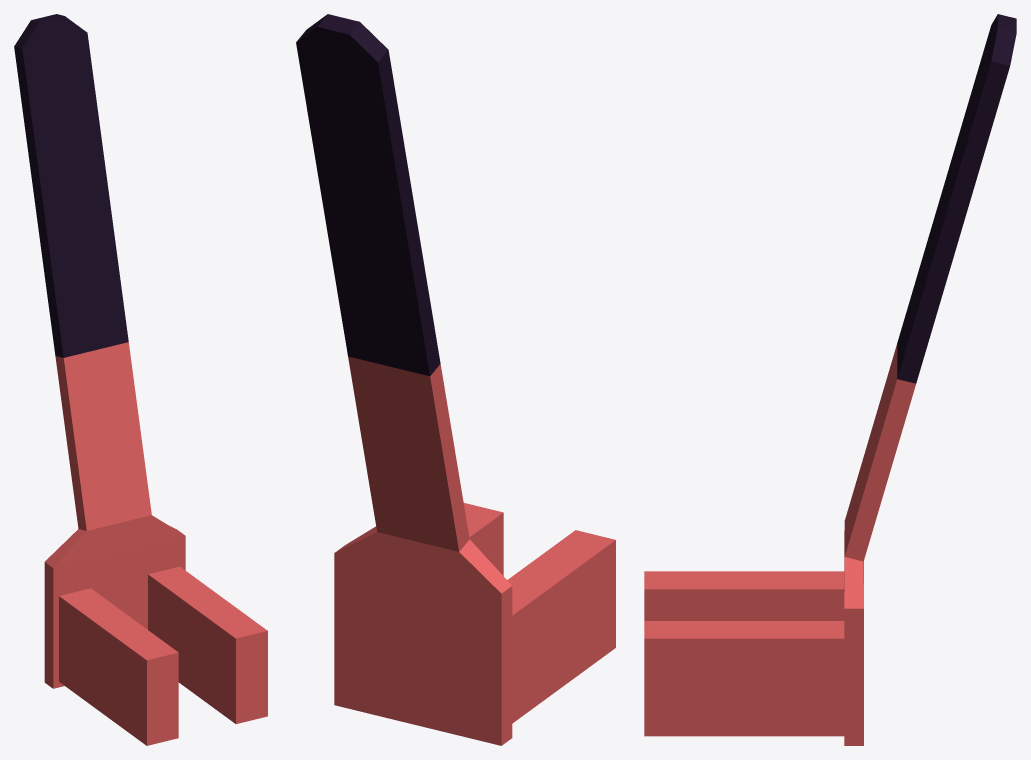
Rendered from lever_clutch.obj.
3 renders of one model, left to right at view 1: azimuth 30°, elevation 25°; view 2: azimuth 150°, elevation 25°; view 3: azimuth 270°, elevation 25°, orthographic. The views are drawn at different scales.
Visible parts, largest first — view 1: lever_clutch; view 2: lever_clutch; view 3: lever_clutch.
Boxes of the visible parts, box(x1,y1,x2,y2) form: lever_clutch: box(14, 14, 267, 745); lever_clutch: box(296, 14, 615, 745); lever_clutch: box(644, 14, 1016, 745).
Size of the model in its own units: 0.0924 by 0.4025 by 0.1975.
Materials: 1 (1 with a texture image).
